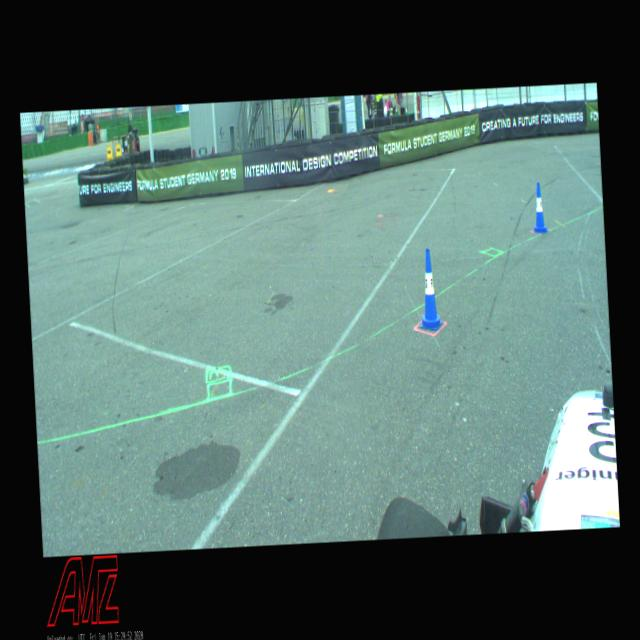blue_cone: (416, 248, 443, 332), (530, 183, 548, 233)
